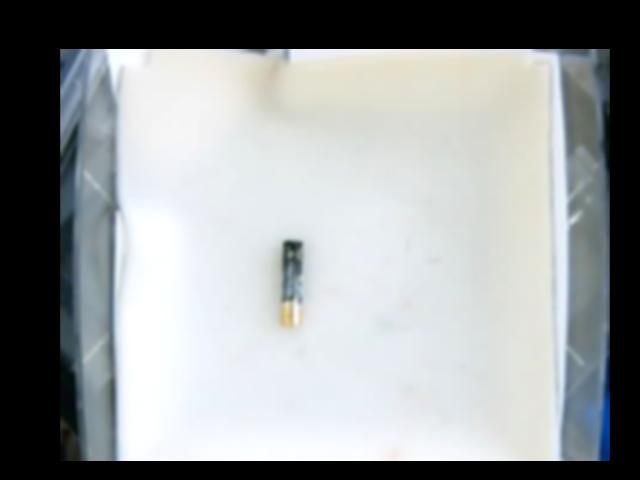Battery: (280, 240, 303, 329)
